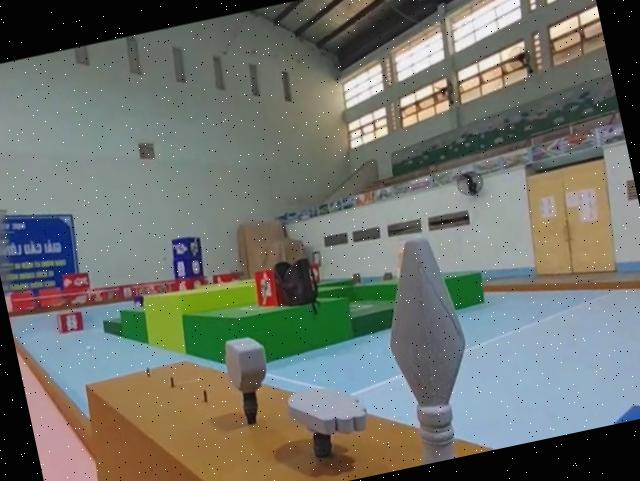Fist: (221, 331, 281, 429)
Hand: (282, 375, 374, 467)
Sph: (361, 225, 487, 468)
